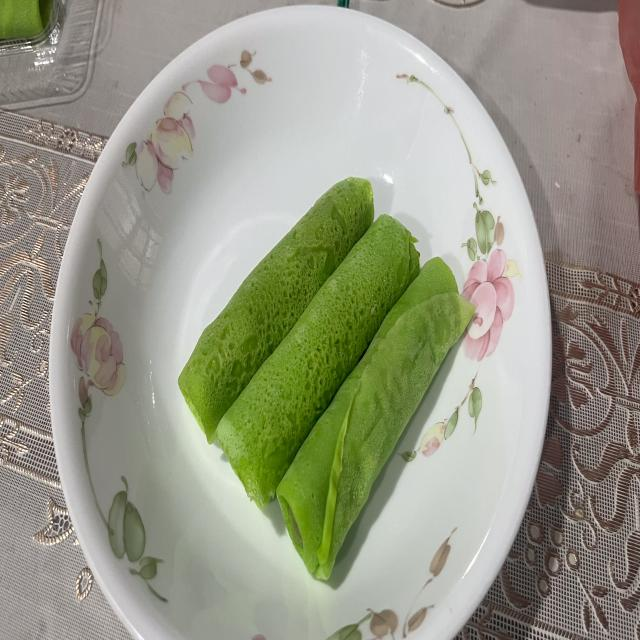Kuih-Ketayap: (276, 258, 475, 580), (216, 216, 419, 509), (179, 178, 374, 442)
